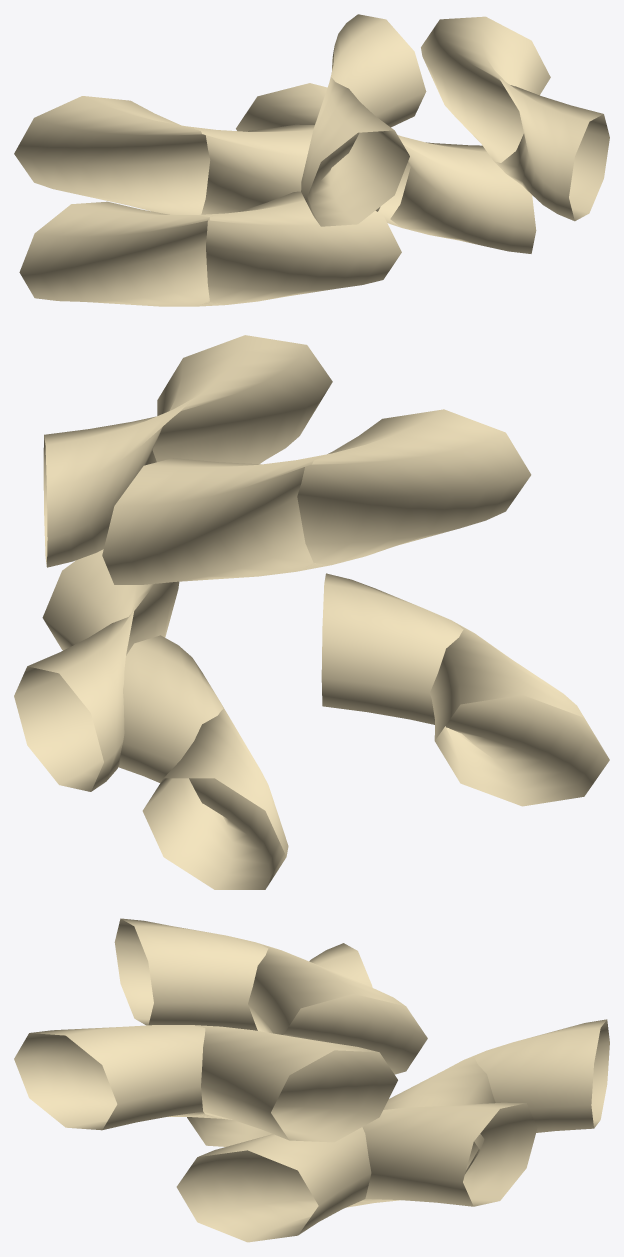
The model's file is beans.glb.
3 views of the same model, one above another, from view 1: azimuth 30°, elevation 25°; view 2: azimuth 150°, elevation 25°; view 3: azimuth 270°, elevation 25° (orthographic). The views are drawn at different scales.
Size of the model in its own units: 0.853 by 0.35 by 0.8793.
